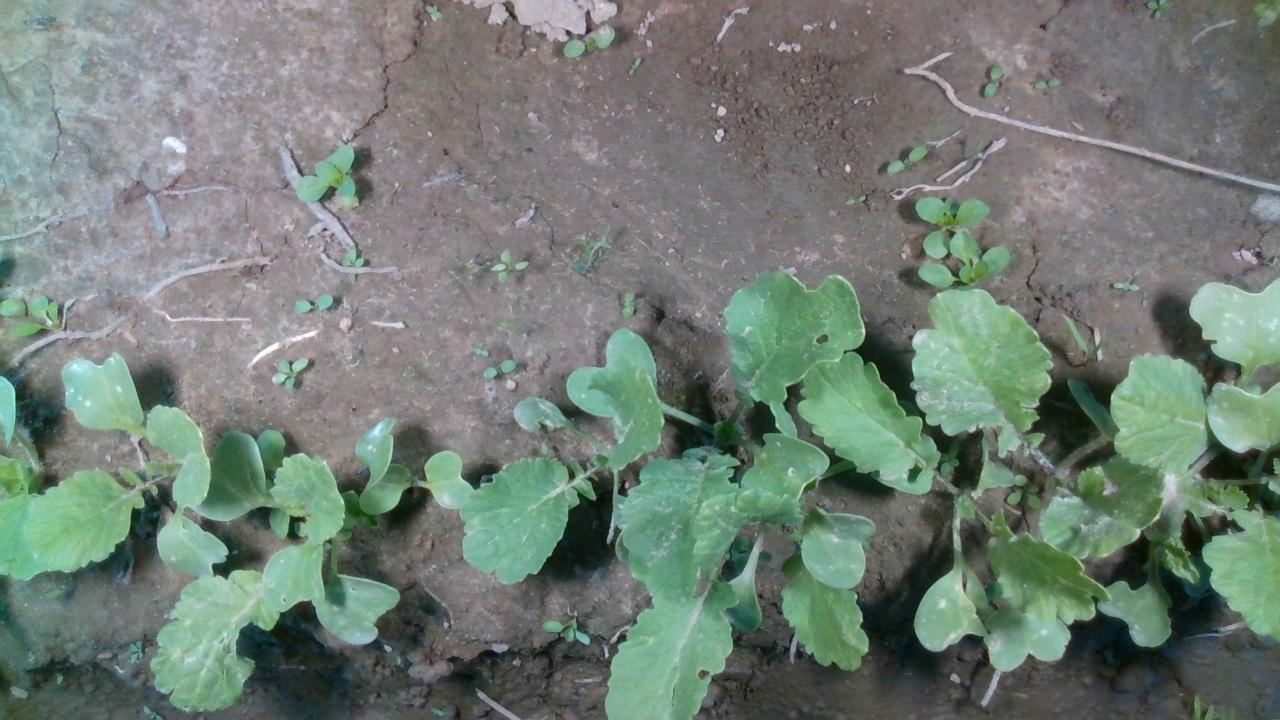weed: (481, 249, 533, 286), (883, 141, 932, 178), (269, 356, 310, 392), (290, 291, 333, 316), (981, 59, 1004, 102), (1030, 71, 1061, 99), (613, 290, 639, 318), (837, 184, 866, 208), (1108, 277, 1143, 295), (470, 342, 485, 362)
